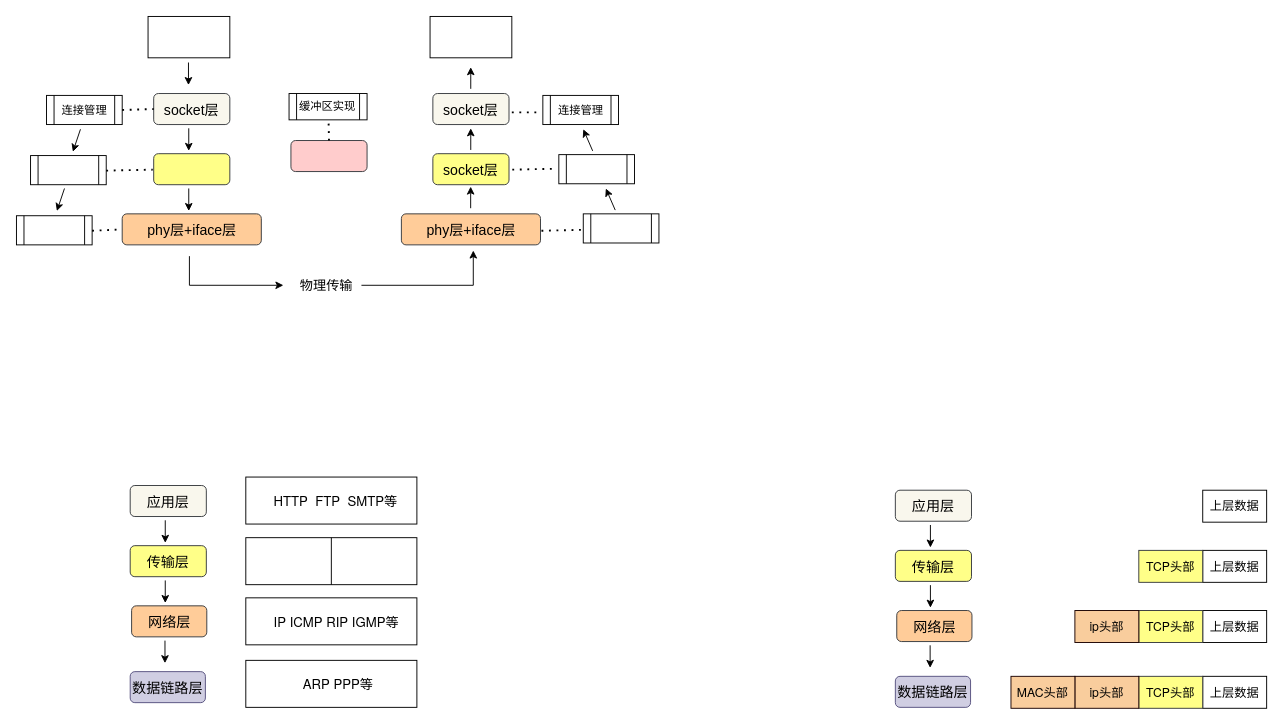
The diagram is 1283 pixels wide and 725 high, and some of its shapes have lost their labels. Each missing label, with the centre of its shape:
storage层: the point at 328,156
TCP UDP: the point at 331,561
wire层: the point at 191,169
发送方: the point at 188,37
封装成帧: the point at 68,170
帧的解析: the point at 596,169
接收方: the point at 470,37
触发发送: the point at 54,230
触发接收: the point at 620,228
